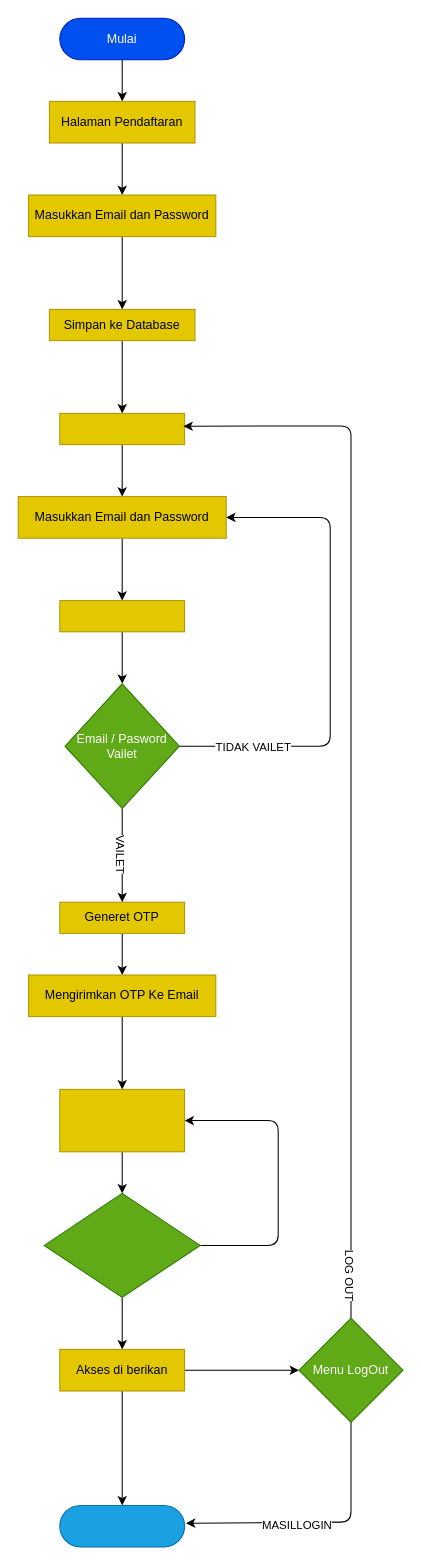
The diagram is 421 pixels wide and 1565 high, and some of its shapes have lost their labels. Each missing label, with the box of its shape:
Cek databes: (59, 600, 185, 632)
Cek OTP APAKAH SESUWAI: (43, 1192, 200, 1297)
Halaman Login: (59, 412, 185, 445)
MasukKe halaman Verivikasii OTP: (59, 1088, 185, 1152)
Selesai: (59, 1504, 185, 1547)
